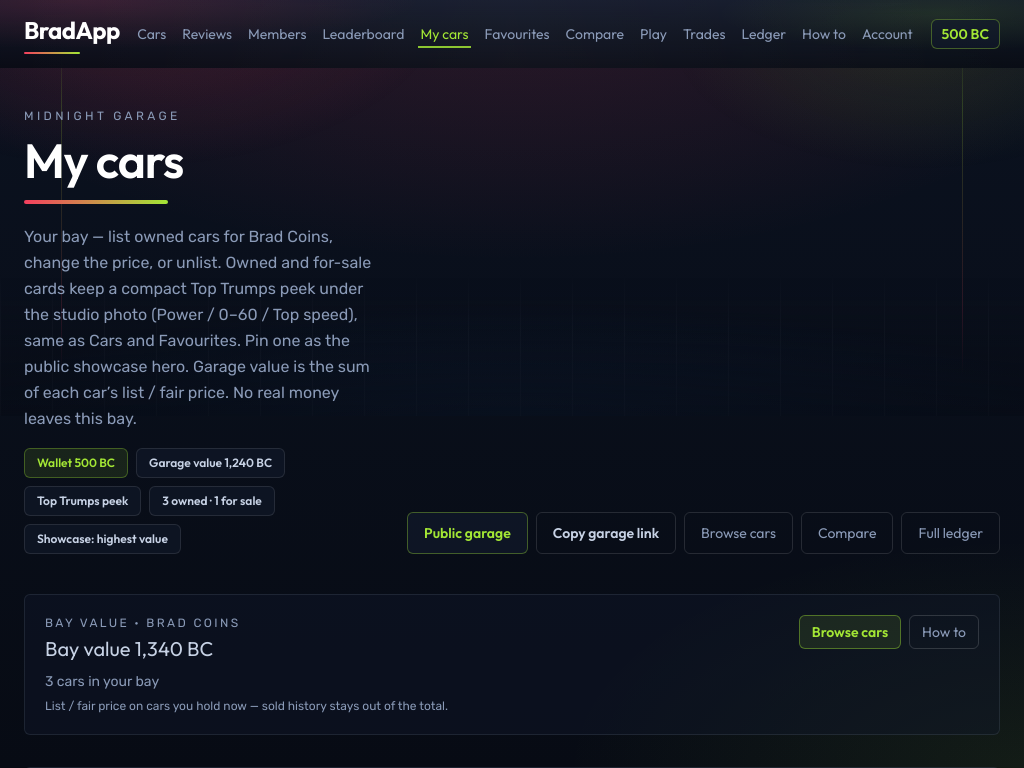
Test: GaragePage Midnight Garage UI › copies the public garage link with a toast
Click the button "Copy garage link" at (606, 533), box x1=536 y1=512 x2=676 y2=554
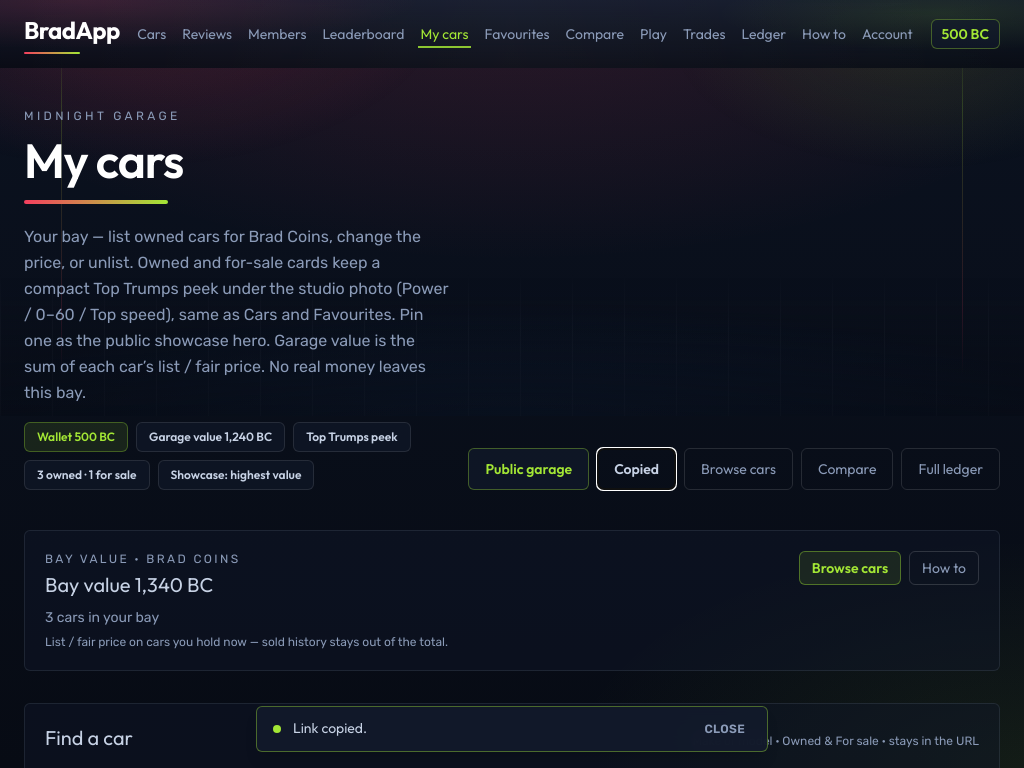
Now the message shows "Link copied.", box x1=293 y1=719 x2=367 y2=737
